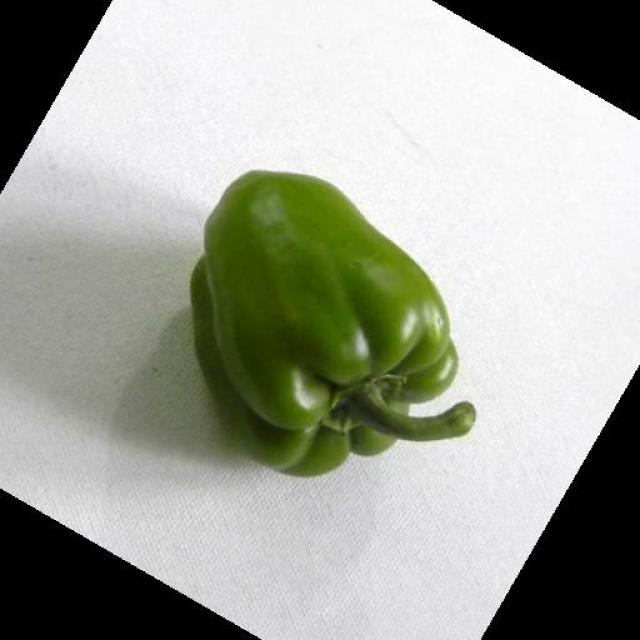Fresh_Capsicum: (178, 199, 487, 477)
